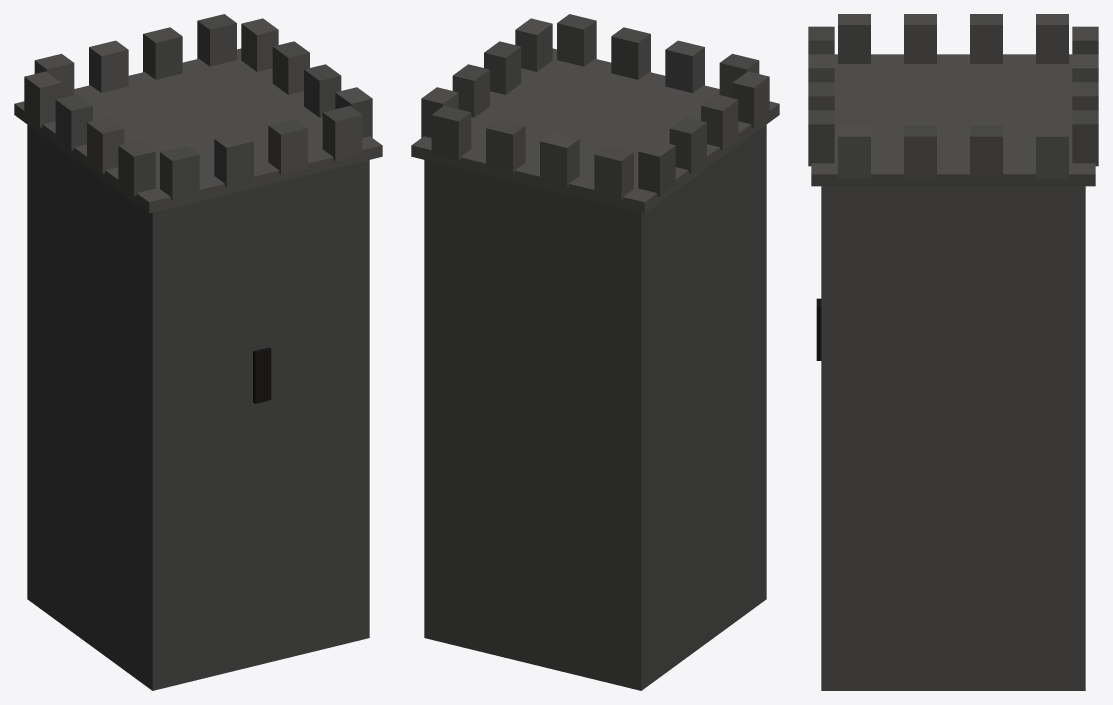
The model's file is walk_freehold_tower.glb.
The picture shows the model from 3 angles, left to right: view 1: azimuth 30°, elevation 25°; view 2: azimuth 150°, elevation 25°; view 3: azimuth 270°, elevation 25°; orthographic projection. The views are drawn at different scales.
Visible parts, largest first — view 1: walk_freehold_tower; view 2: walk_freehold_tower; view 3: walk_freehold_tower.
Boxes of the visible parts, x1,y1,x2,y2 form: walk_freehold_tower: (14,14,382,690); walk_freehold_tower: (411,14,779,690); walk_freehold_tower: (808,14,1098,690).
Size of what is drawn, in the model's own units: 4.4 by 9.35 by 4.4.
1 material, 1 textured.
